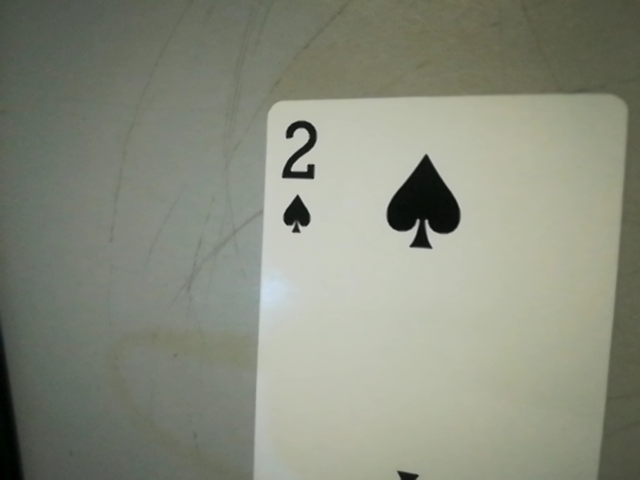ht 2: (266, 111, 333, 244)
